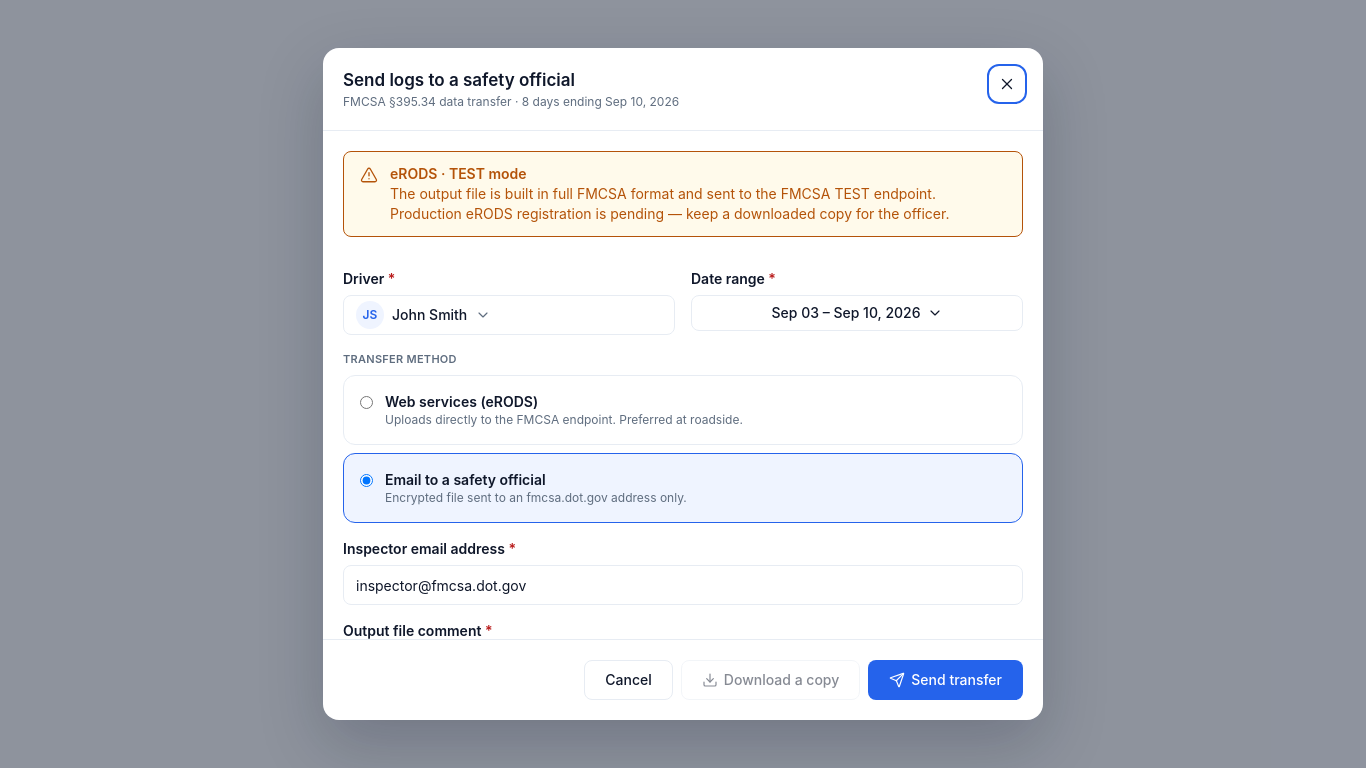
Test: 11.14 Send logs to a safety official › shows INVALID_TRANSFER_RECIPIENT verbatim on the field and in the modal, without retrying
The image size is (1366, 768).
Click the button "Send transfer" at (946, 680), box x1=868 y1=660 x2=1023 y2=700
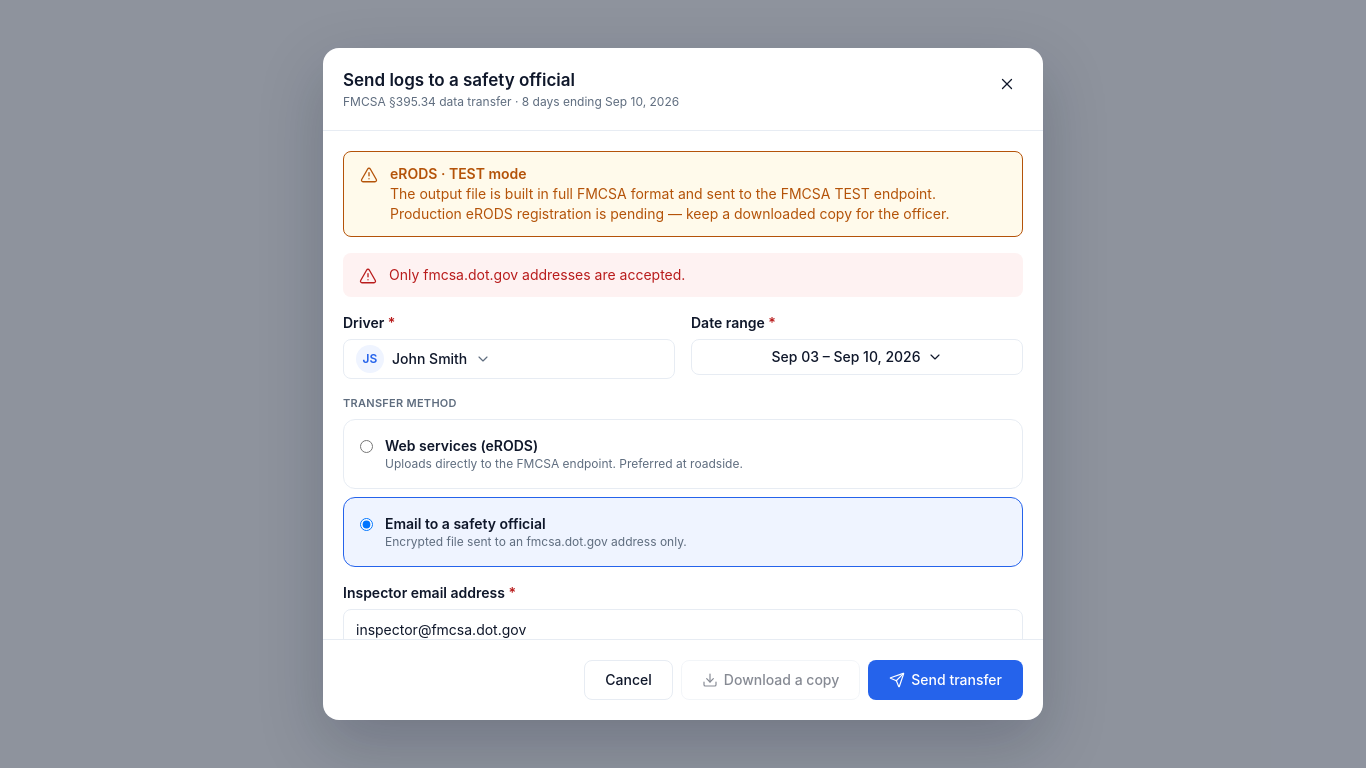
Result: the text "Only fmcsa.dot.gov addresses are accepted." is shown 2 times
